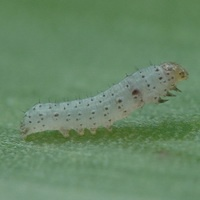insect: (21, 62, 187, 136)
